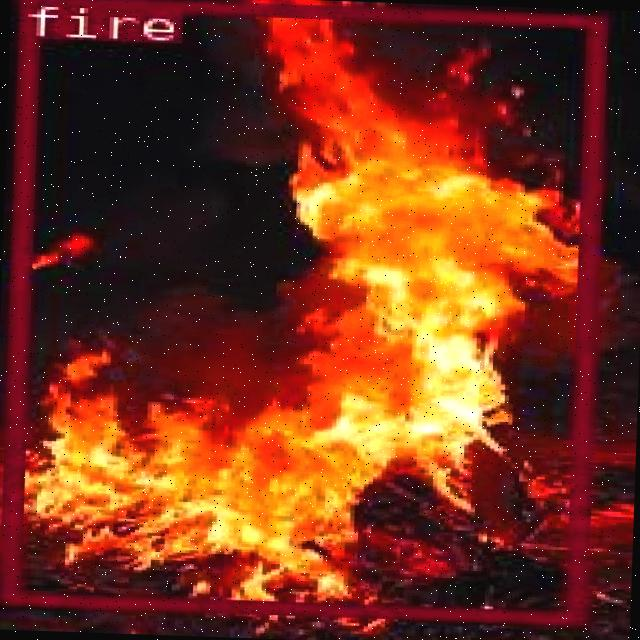fire: (0, 0, 601, 620)
